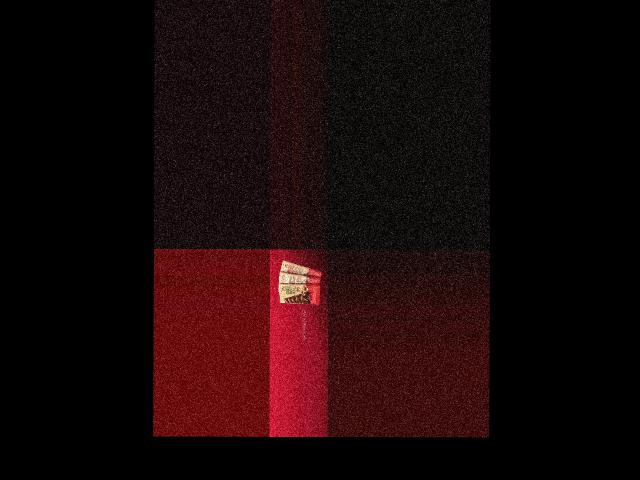chocolate: (278, 260, 324, 281)
